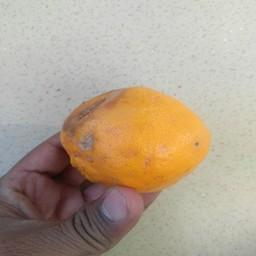Bad_orange: (54, 80, 212, 194)
